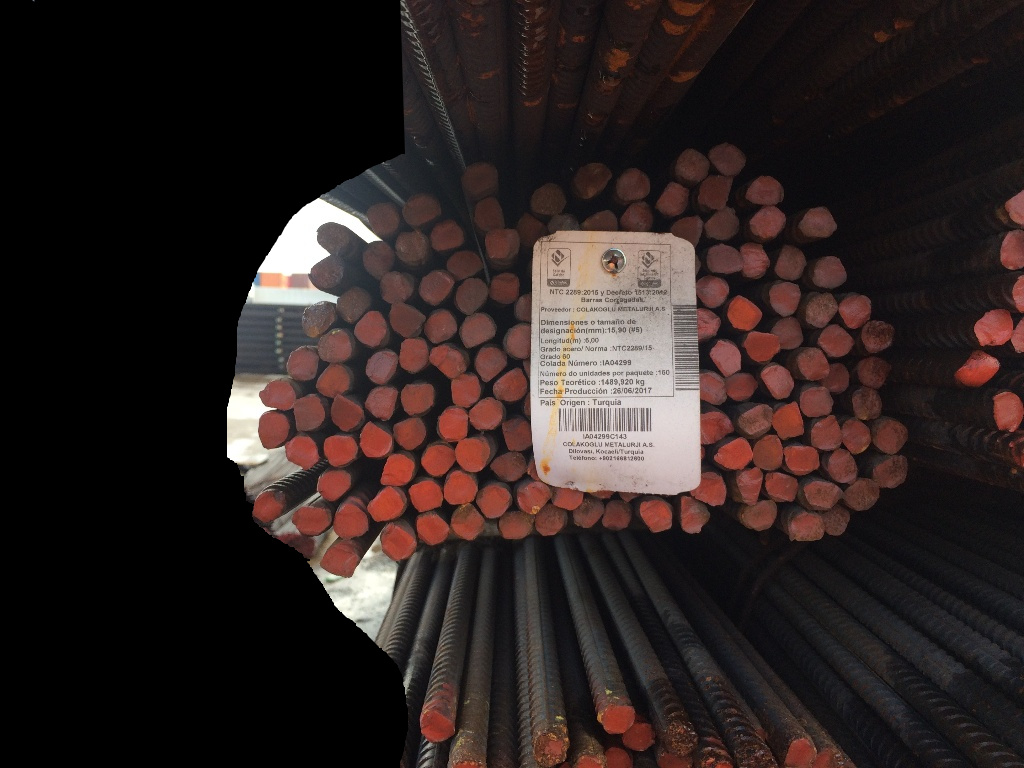dipstick: (953, 351, 1002, 386), (975, 303, 1013, 346), (706, 242, 745, 280), (992, 385, 1024, 429), (489, 448, 528, 484), (331, 508, 371, 542), (475, 484, 514, 518), (367, 486, 406, 520), (379, 526, 419, 559), (515, 481, 556, 513), (656, 180, 691, 217), (460, 313, 497, 348), (676, 147, 710, 185), (768, 403, 806, 437), (257, 378, 297, 410), (390, 301, 423, 339), (636, 500, 675, 532), (801, 480, 842, 510), (750, 207, 787, 240), (693, 474, 730, 507), (452, 504, 485, 541), (419, 709, 459, 739), (772, 318, 807, 352), (399, 383, 434, 417), (365, 351, 400, 385), (461, 163, 497, 196), (529, 185, 565, 218), (726, 298, 762, 331), (698, 411, 734, 444), (747, 175, 784, 207), (359, 426, 396, 458), (616, 168, 651, 201), (312, 222, 348, 254), (739, 403, 771, 439), (754, 437, 786, 473), (470, 397, 506, 429), (575, 165, 612, 196), (785, 445, 822, 476), (439, 474, 477, 504), (407, 479, 445, 509), (995, 232, 1024, 271), (438, 408, 471, 442), (710, 144, 745, 176), (875, 454, 910, 486), (418, 272, 453, 304), (402, 196, 438, 227), (476, 347, 507, 383), (414, 514, 450, 545), (801, 207, 838, 237), (841, 418, 871, 455), (682, 498, 712, 535), (701, 211, 739, 240), (486, 270, 519, 303), (700, 179, 734, 211), (495, 371, 529, 403), (452, 281, 486, 313), (293, 401, 327, 433), (318, 363, 352, 395), (392, 233, 427, 264), (364, 386, 399, 417), (328, 396, 363, 427), (698, 371, 728, 407), (378, 455, 414, 485), (323, 434, 359, 464), (360, 246, 397, 275), (425, 308, 457, 341), (356, 313, 389, 345), (671, 213, 705, 244), (822, 328, 856, 359), (711, 342, 742, 376), (256, 415, 290, 446), (739, 246, 769, 281), (695, 278, 730, 308), (841, 297, 871, 332), (873, 423, 908, 453), (743, 499, 778, 529), (482, 232, 518, 261), (431, 346, 467, 375), (293, 505, 330, 533), (422, 443, 454, 475), (501, 419, 534, 450), (449, 249, 482, 280), (303, 304, 336, 335), (502, 510, 536, 540), (378, 272, 412, 302), (605, 498, 634, 533), (335, 291, 370, 320), (717, 442, 753, 470), (814, 256, 846, 287), (806, 296, 837, 328), (857, 352, 889, 383), (799, 348, 831, 379), (744, 332, 777, 362), (762, 366, 795, 396), (802, 387, 835, 417), (456, 440, 489, 470), (788, 510, 822, 539), (393, 419, 427, 448), (861, 322, 894, 351), (286, 351, 319, 380), (602, 707, 635, 736), (505, 326, 533, 360), (532, 736, 567, 763), (538, 507, 569, 537), (451, 374, 482, 404), (735, 471, 764, 503), (319, 471, 351, 500), (308, 259, 341, 287), (624, 206, 659, 232), (852, 389, 881, 420), (848, 482, 879, 511), (827, 454, 858, 483), (810, 421, 841, 450), (322, 544, 353, 573), (288, 438, 319, 467), (1004, 182, 1024, 226), (548, 489, 586, 512), (664, 726, 694, 755), (400, 339, 427, 371), (765, 476, 799, 501), (788, 740, 818, 768), (472, 203, 503, 230), (572, 498, 603, 524), (432, 222, 463, 248), (320, 334, 351, 360), (694, 311, 721, 340), (517, 218, 547, 244), (777, 249, 803, 279), (771, 283, 797, 313), (367, 206, 399, 230), (826, 509, 852, 537), (727, 377, 757, 401), (627, 727, 655, 751), (255, 494, 281, 519), (824, 364, 847, 392), (604, 744, 629, 768), (339, 753, 379, 768), (1012, 310, 1024, 357), (586, 214, 619, 230), (511, 293, 532, 318), (577, 752, 600, 768), (1011, 279, 1024, 306)
